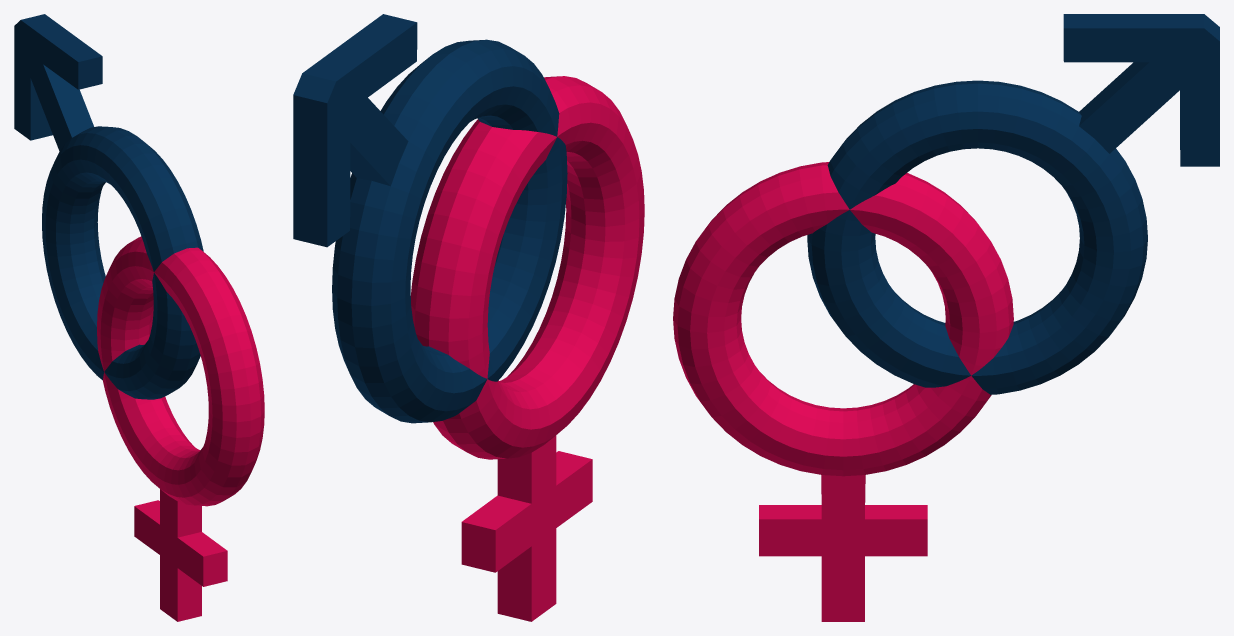
Rendered from Regla63.fbx.
3 views of the same model, side by side, from view 1: azimuth 30°, elevation 25°; view 2: azimuth 150°, elevation 25°; view 3: azimuth 270°, elevation 25° (orthographic). The views are drawn at different scales.
Parts seen in each view (by area): view 1: 000_Regla63_001, 000_Regla63_002; view 2: 000_Regla63_001, 000_Regla63_002; view 3: 000_Regla63_002, 000_Regla63_001.
Part boxes in pixels (x1=…): 000_Regla63_001: x1=97, y1=236, x2=264, y2=621; 000_Regla63_002: x1=14, y1=14, x2=203, y2=399; 000_Regla63_001: x1=410, y1=76, x2=644, y2=621; 000_Regla63_002: x1=293, y1=14, x2=567, y2=423; 000_Regla63_002: x1=807, y1=14, x2=1219, y2=394; 000_Regla63_001: x1=673, y1=162, x2=1013, y2=621.
Bounding box in the file's own units: 24.17 × 232 × 194.
Materials: 2 (2 with a texture image).
